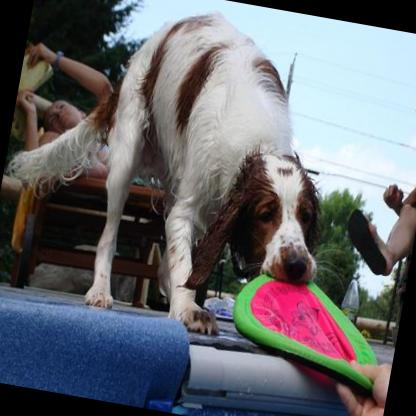Welsh_springer_spaniel: (0, 0, 355, 349)
